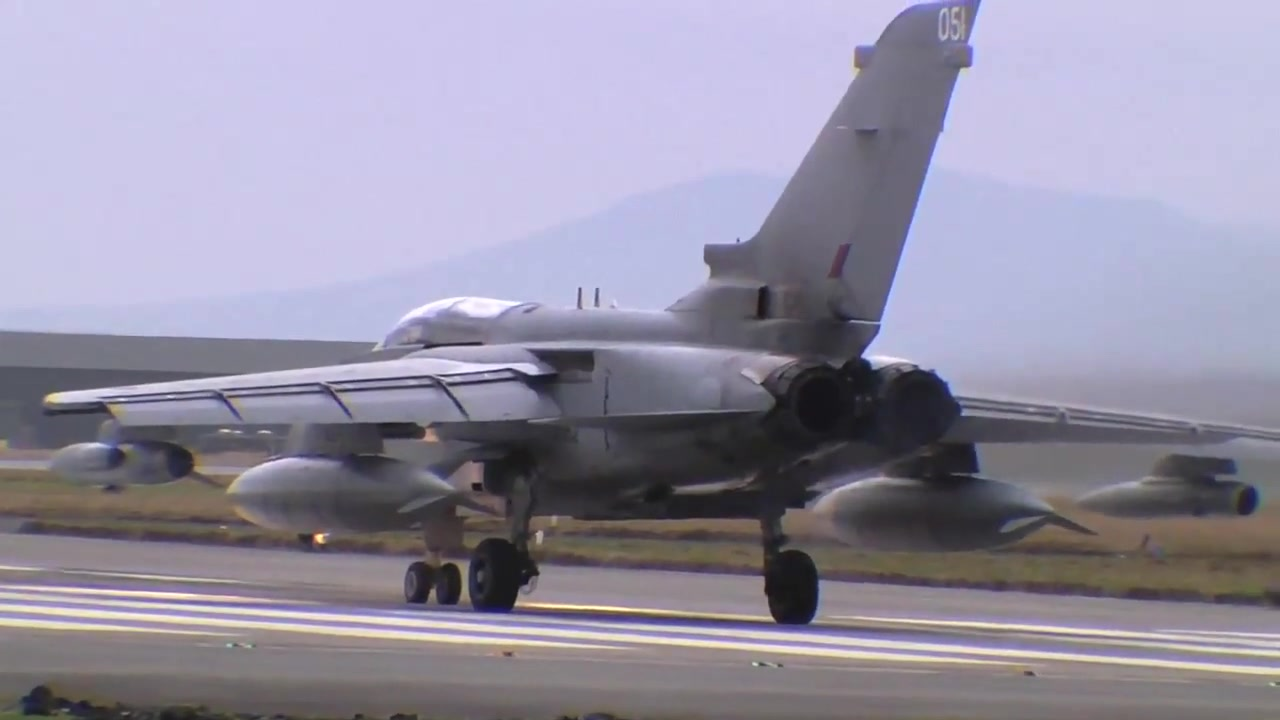aeroplane: (34, 1, 1280, 630)
